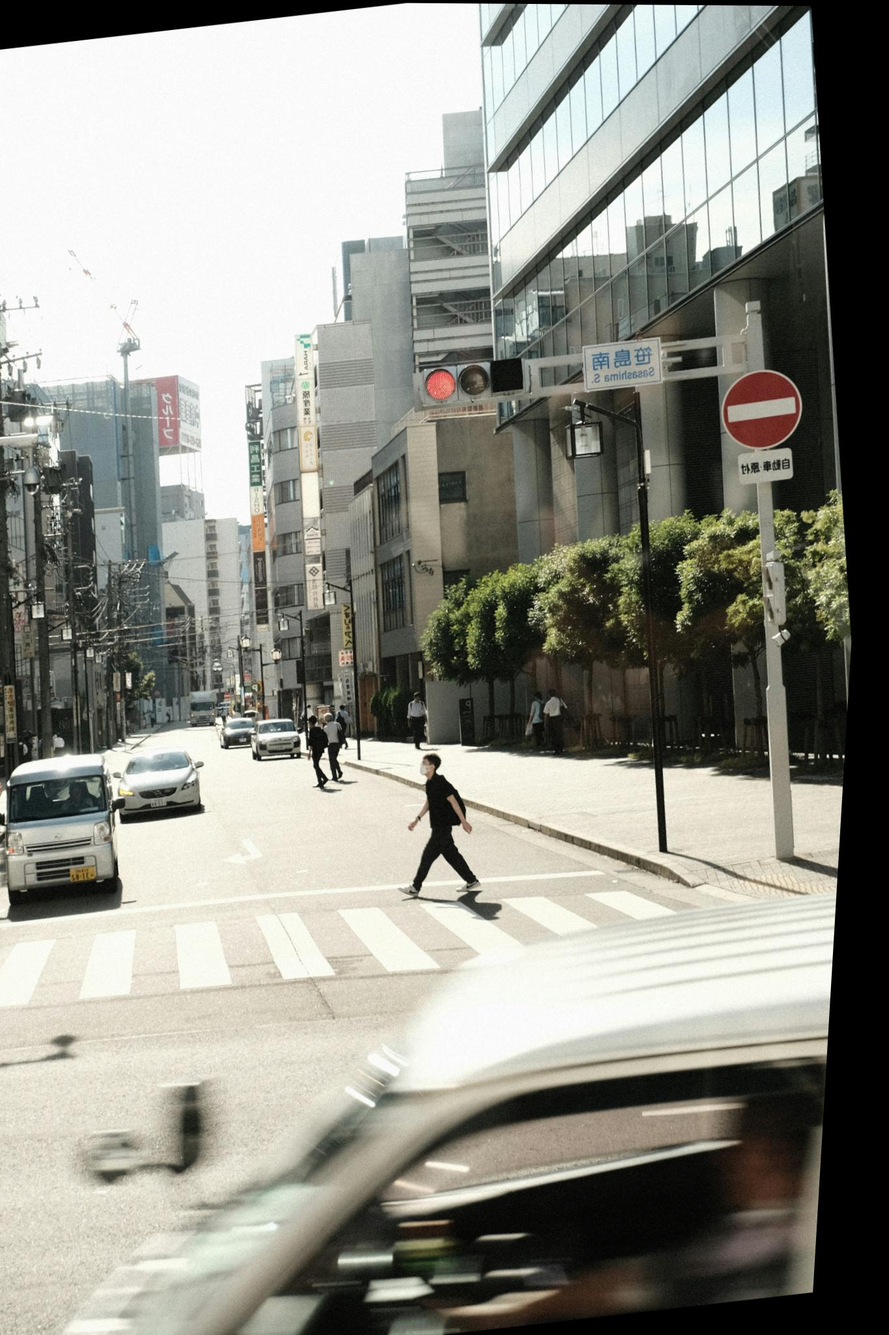barrier: (712, 362, 810, 459)
